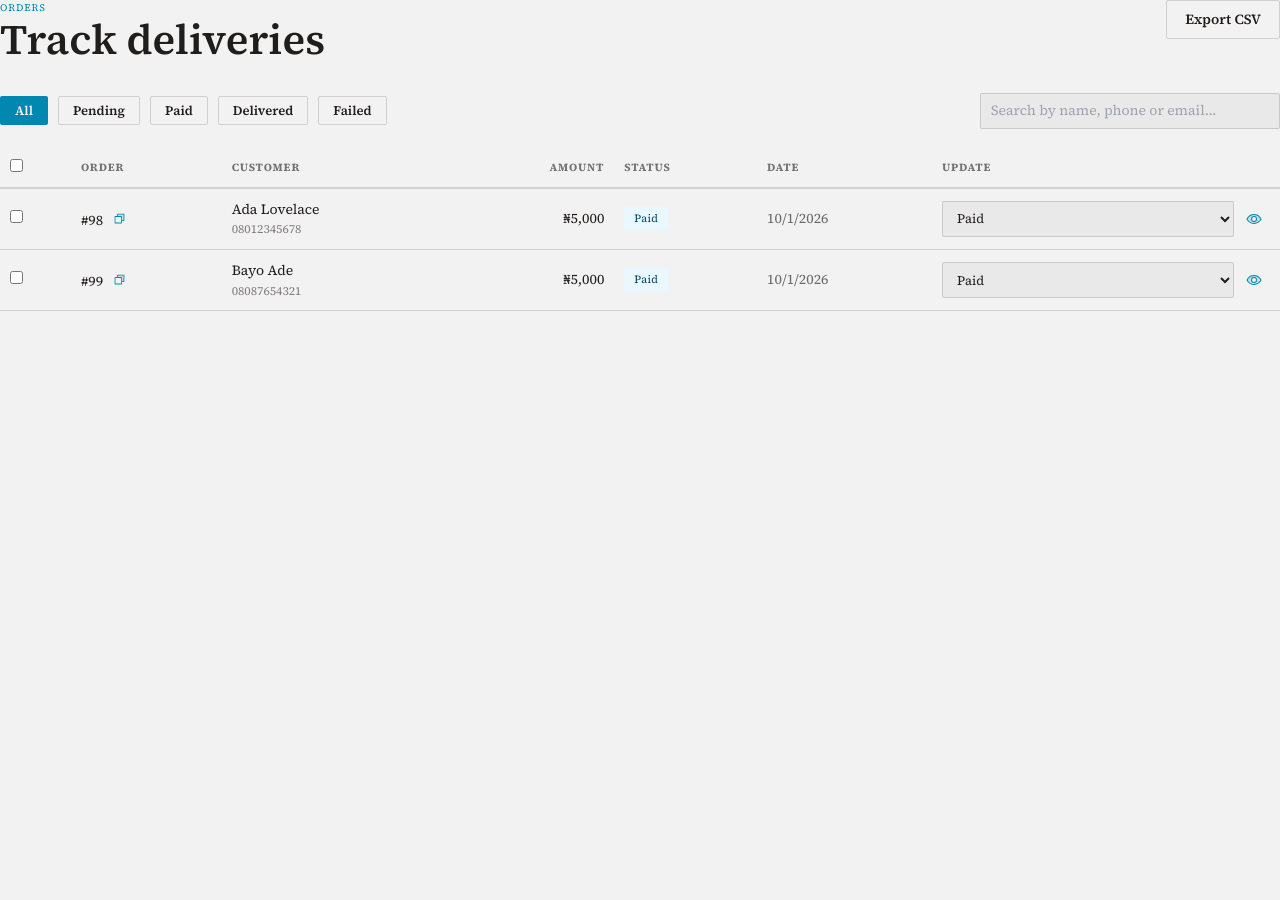
Test case: Admin orders page › shows a "Not provided" fallback when the email is missing
Click the button named "View order 99". click: (1254, 280)
box: [1238,262,1270,298]
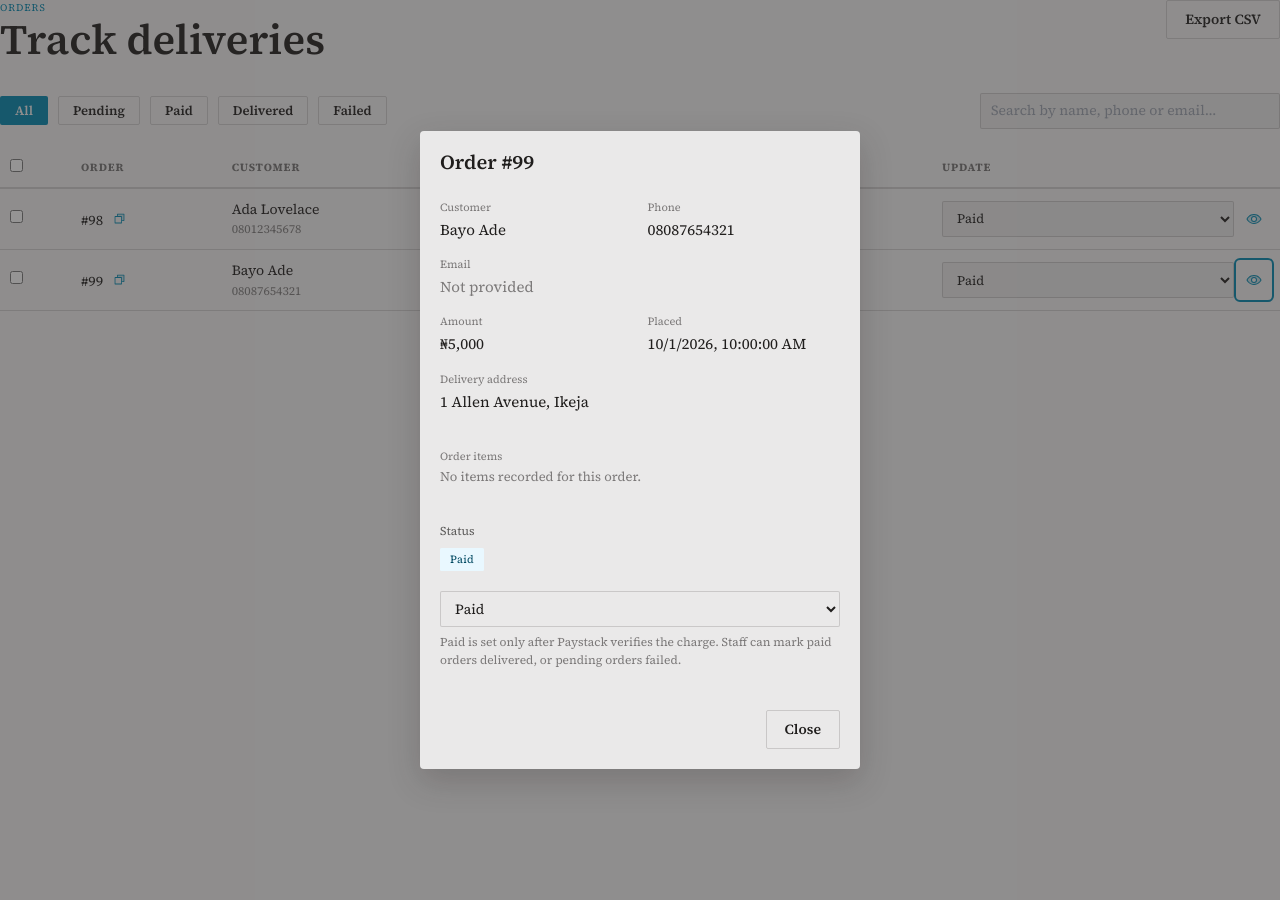
Now the text "Not provided" is shown, box [440,276,534,297]
